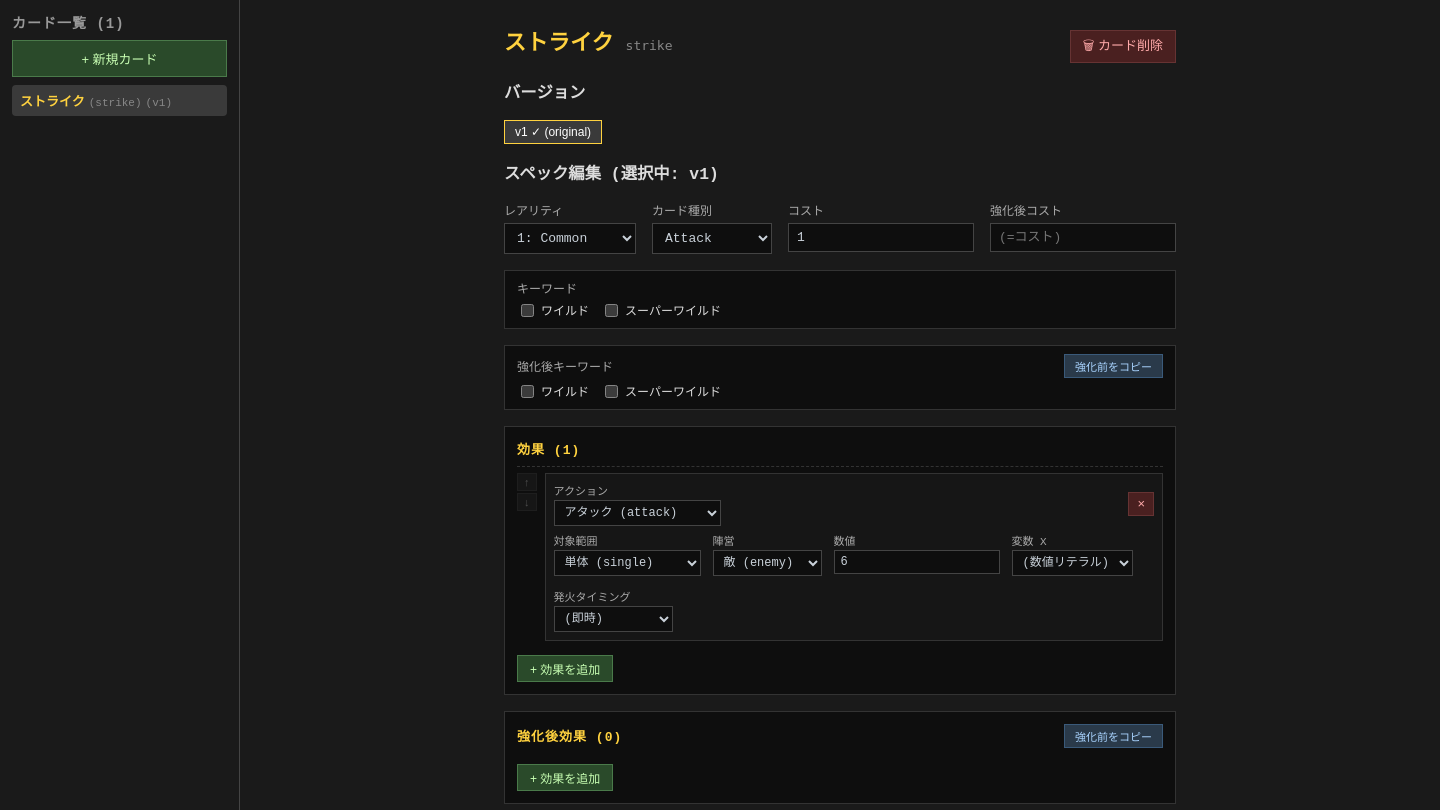
Test case: DevCardsScreen › opens New Card modal when "+ 新規カード" button clicked
Click the button "+ 新規カード" at (120,58), box 12,40 -> 227,77
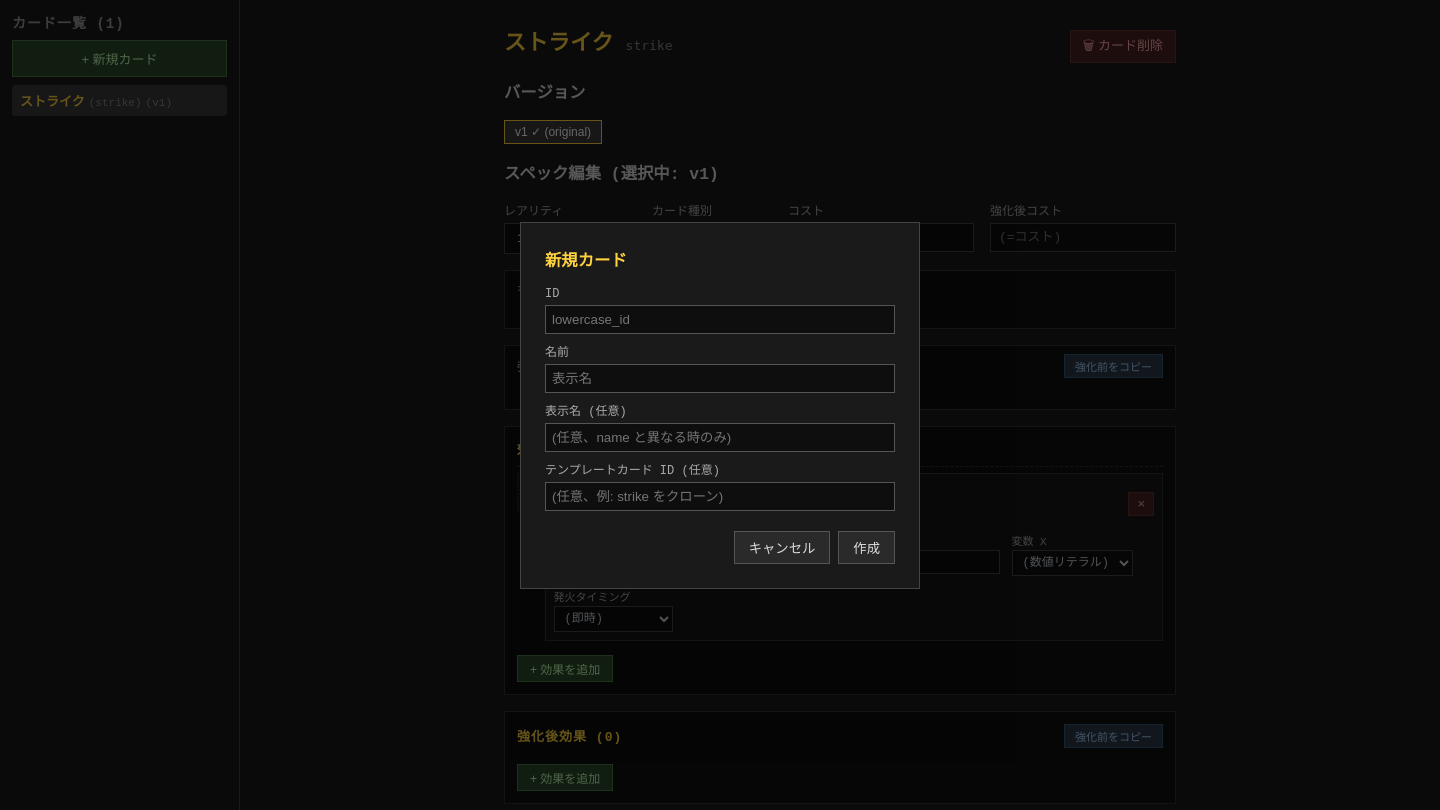
Check: the dialog named "New Card" is shown, box 520,222 -> 920,588
Check: the field named "new card id" is shown, box 545,304 -> 895,334
Check: the field named "new card name" is shown, box 545,364 -> 895,392
